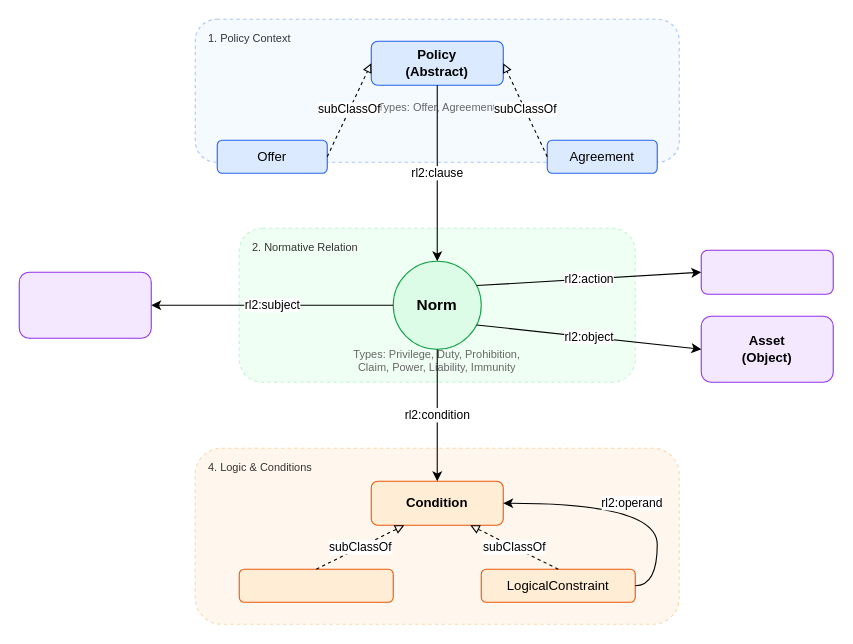
This 853x644 diagram has some shape labels left out. Each missing label, with the centre of its shape:
Action: (x=766, y=271)
Agent (Subject): (x=84, y=304)
AtomicConstraint: (x=315, y=585)
